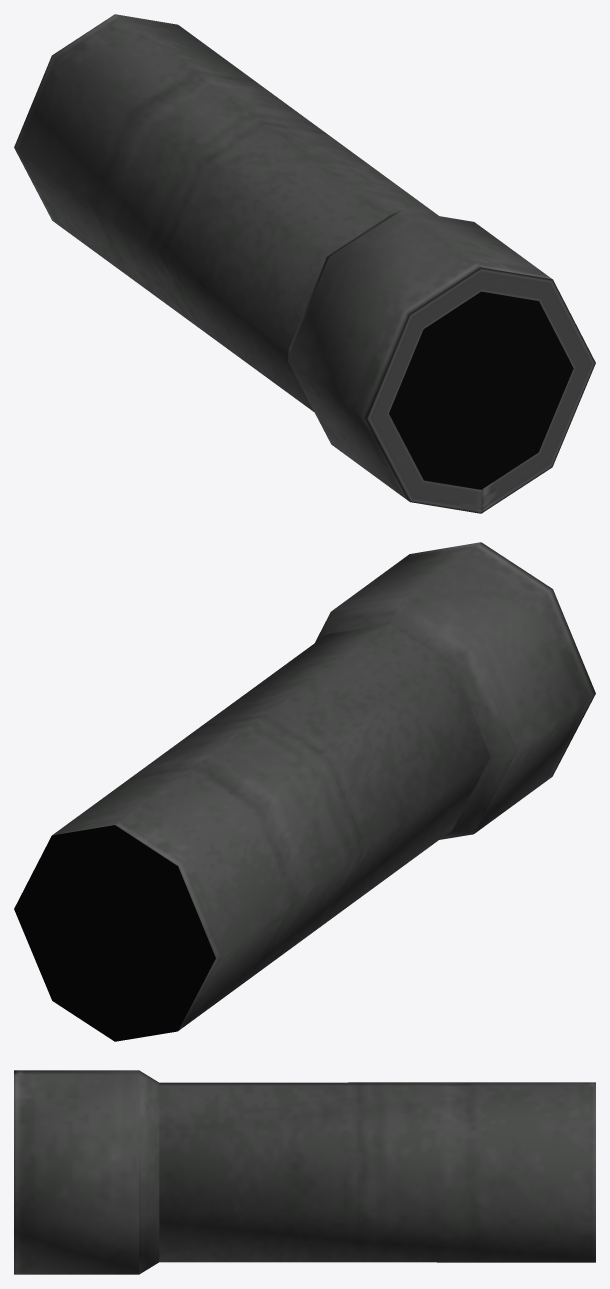
The model's file is Pickup_WeaponZj07.glb.
3 views of the same model, one above another, from view 1: azimuth 30°, elevation 25°; view 2: azimuth 150°, elevation 25°; view 3: azimuth 270°, elevation 25° (orthographic). The views are drawn at different scales.
Parts seen in each view (by area): view 1: pk_weapon_zj07; view 2: pk_weapon_zj07; view 3: pk_weapon_zj07.
Boxes of the visible parts, x1,y1,x2,y2 form: pk_weapon_zj07: [14, 14, 595, 513]; pk_weapon_zj07: [14, 542, 595, 1041]; pk_weapon_zj07: [14, 1070, 595, 1274].
Bounding box in the file's own units: 0.1115 × 0.1144 × 0.3083.
Materials: 1 (1 with a texture image).
